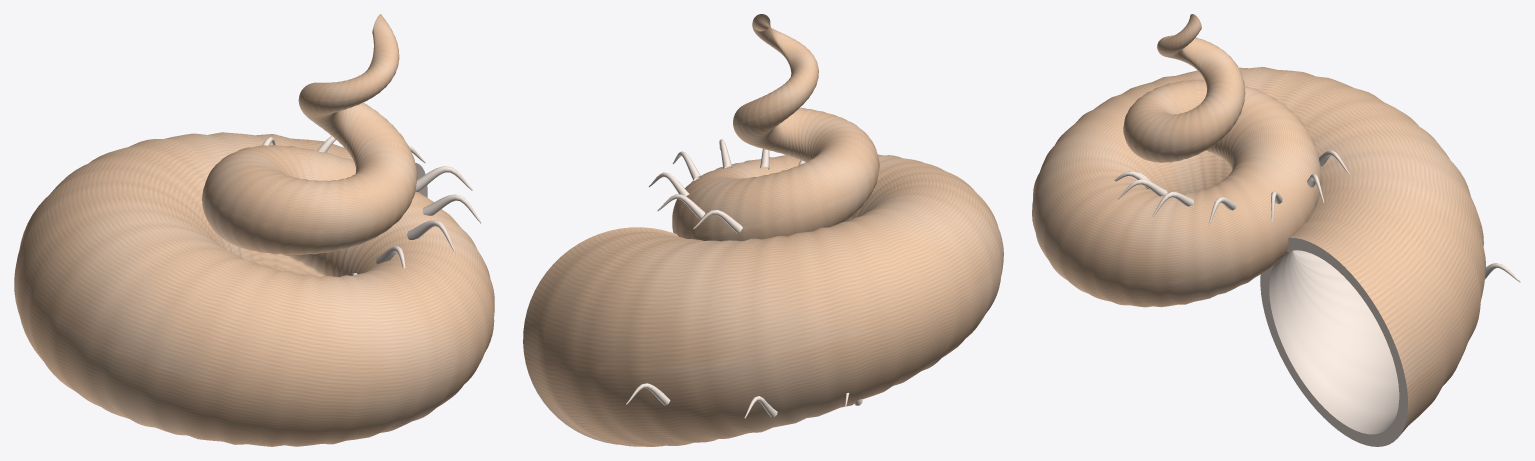
File: murex.glb
3 renders of one model, left to right at view 1: azimuth 30°, elevation 25°; view 2: azimuth 150°, elevation 25°; view 3: azimuth 270°, elevation 25°, orthographic. The views are drawn at different scales.
Parts seen in each view (by area): view 1: murex.001; view 2: murex.001; view 3: murex.001.
Boxes of the visible parts, x1,y1,x2,y2 form: murex.001: (14,14,494,446); murex.001: (523,14,1003,446); murex.001: (1032,14,1520,446).
Size of the model in its own units: 1.54 by 1.53 by 1.69.
19 materials, 1 textured.
